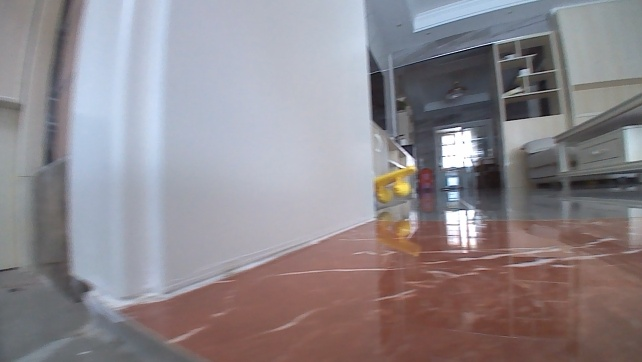sofa1: (518, 132, 558, 190)
tea_table1: (552, 90, 641, 193)
